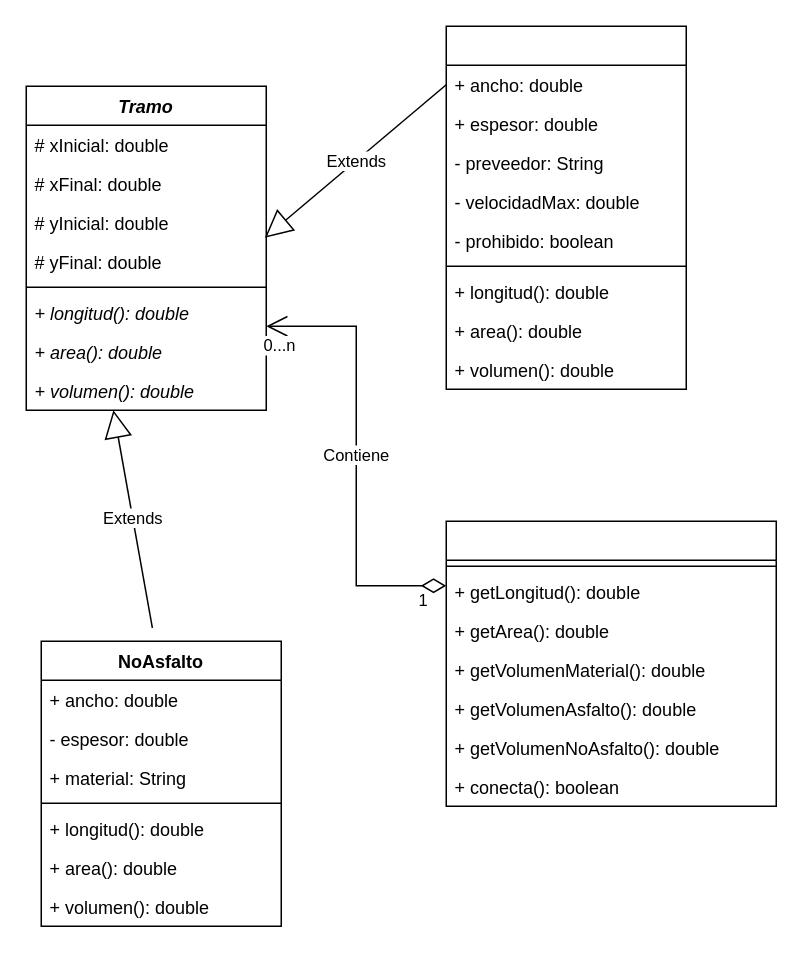
This 803x957 diagram has some shape labels left out. The shapes that lost their labels are listed below. From the top down, each one's box as (x1, y1, x2, y2) in pixels, then its label:
(445, 25, 686, 389): Asfalto
(445, 520, 776, 806): Carretera
